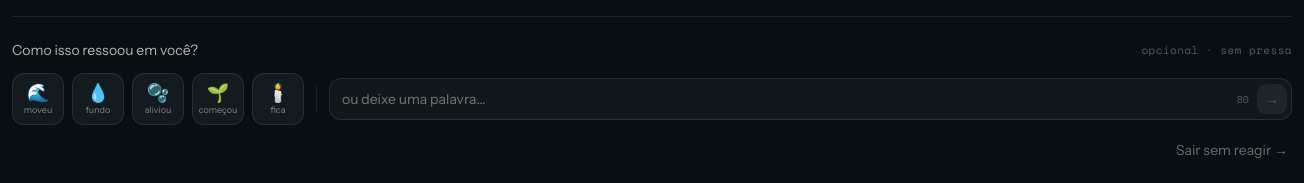
Test: SynthesisReactionDock › salva um comentário curto e mostra a confirmação, com o botão de enviar desabilitado até haver texto
Check: the button named "Salvar comentário" is disabled, box [1257,84,1287,114]
Type "Isso me pegou fundo." into the field named "Deixe um comentário curto sobre a síntese". click: (785, 99)
box: [342,90,1229,108]
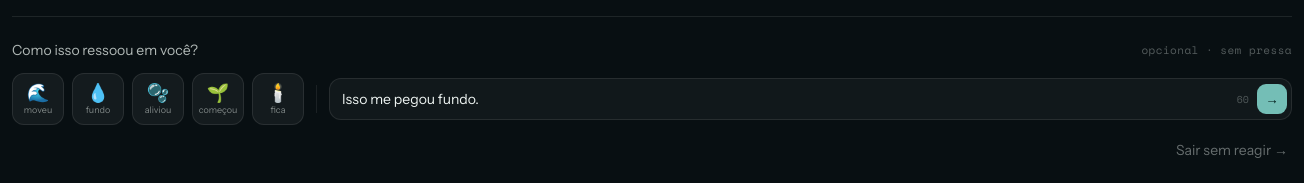
Check: the button named "Salvar comentário" is enabled
Click the button named "Salvar comentário". click: (1272, 99)
box: [1257,84,1287,114]
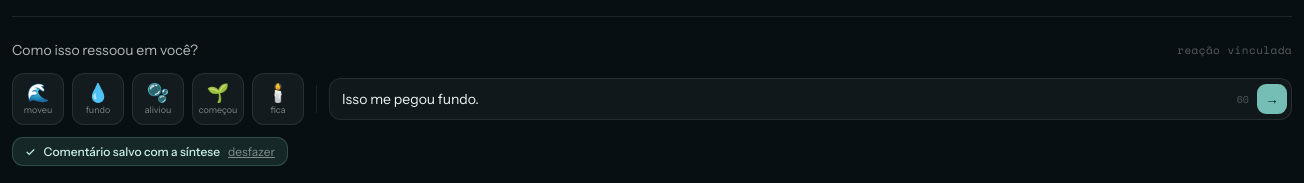
Check: the message shows "Comentário salvo com a síntese", box [44,144,220,159]
